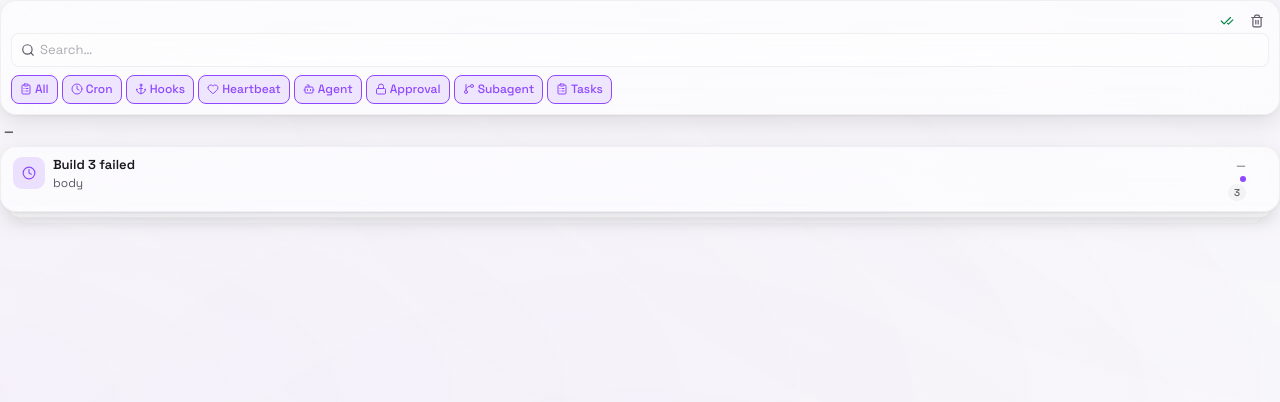
Test: NotificationFeed Phase 4: mac deck stacking (macOS NC style) › expanded mac stack collapses via the Show less capsule
What coordinates should you click on to do the following:
click the button with aria-label "Expand 3 grouped notifications"
I would click on:
 (29, 173)
Its box is x1=13 y1=157 x2=1246 y2=201.
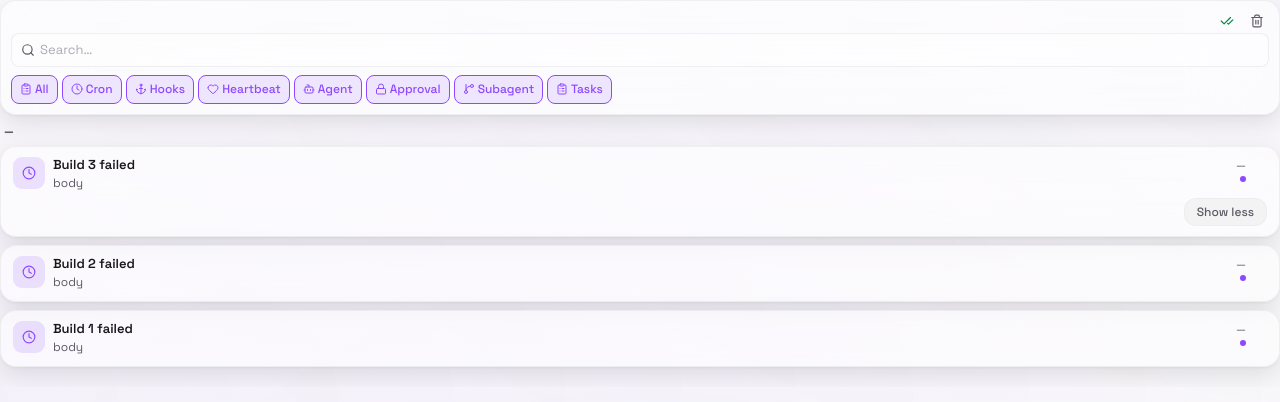
What coordinates should you click on to do the following:
click the button "Show less"
I would click on:
 (1225, 212)
Its box is x1=1184 y1=198 x2=1267 y2=226.
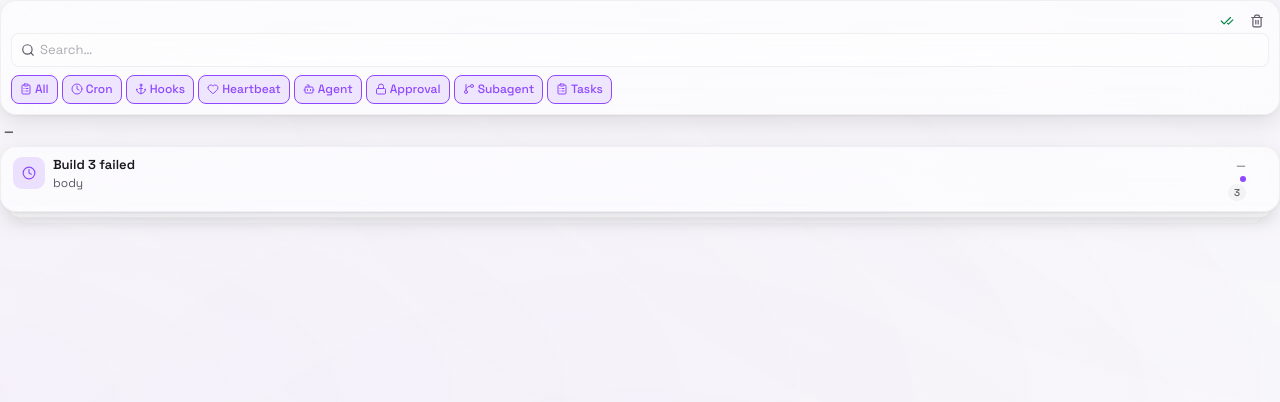
Now the button "Build 2 failed" is gone
Now the button with aria-label "Expand 3 grouped notifications" is shown, box x1=13 y1=157 x2=1246 y2=201
